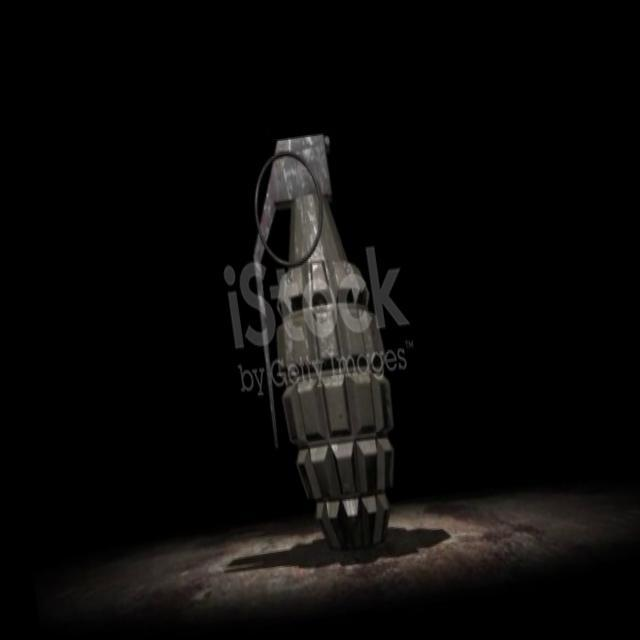grenade: (234, 120, 411, 564)
